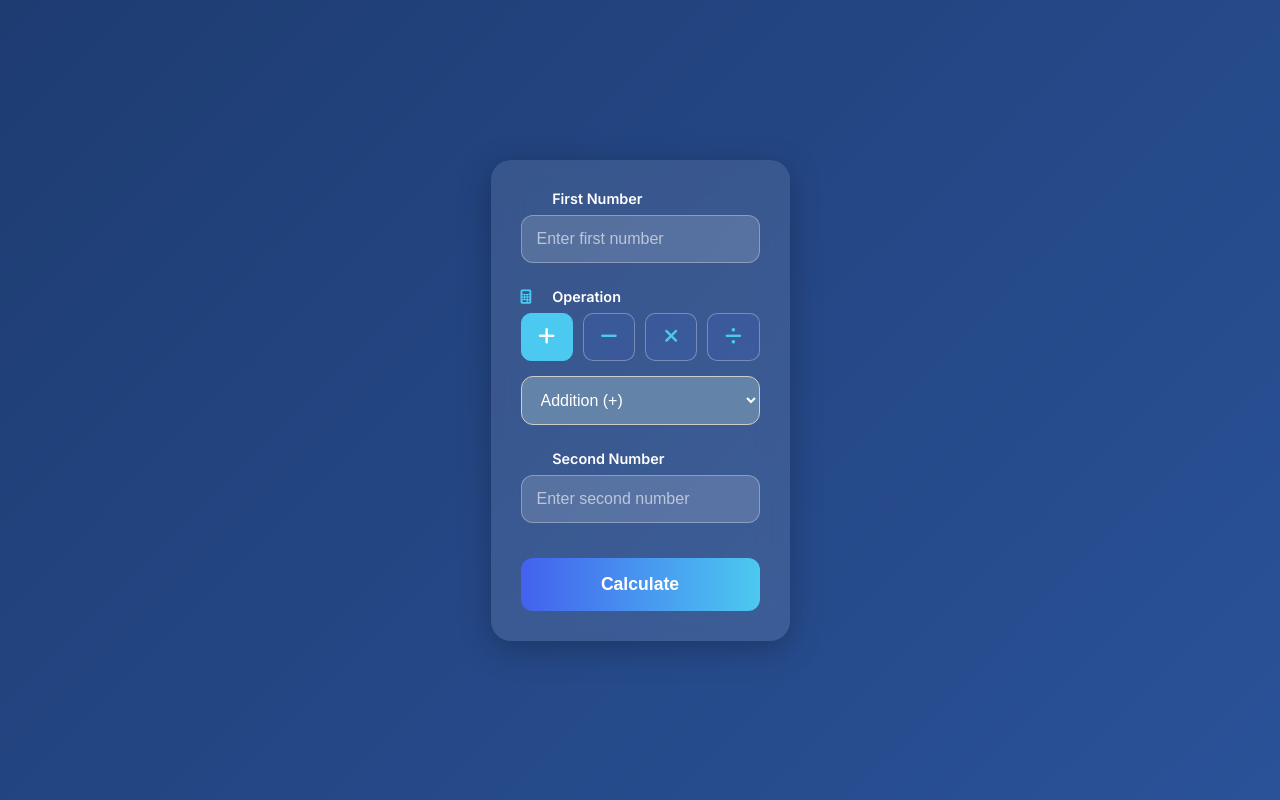
Test: Calculator additional tests › displays API error when calculate rejects
Type "10" into the number field with test id "first-number-input" at (640, 238), box [520,214,760,262]
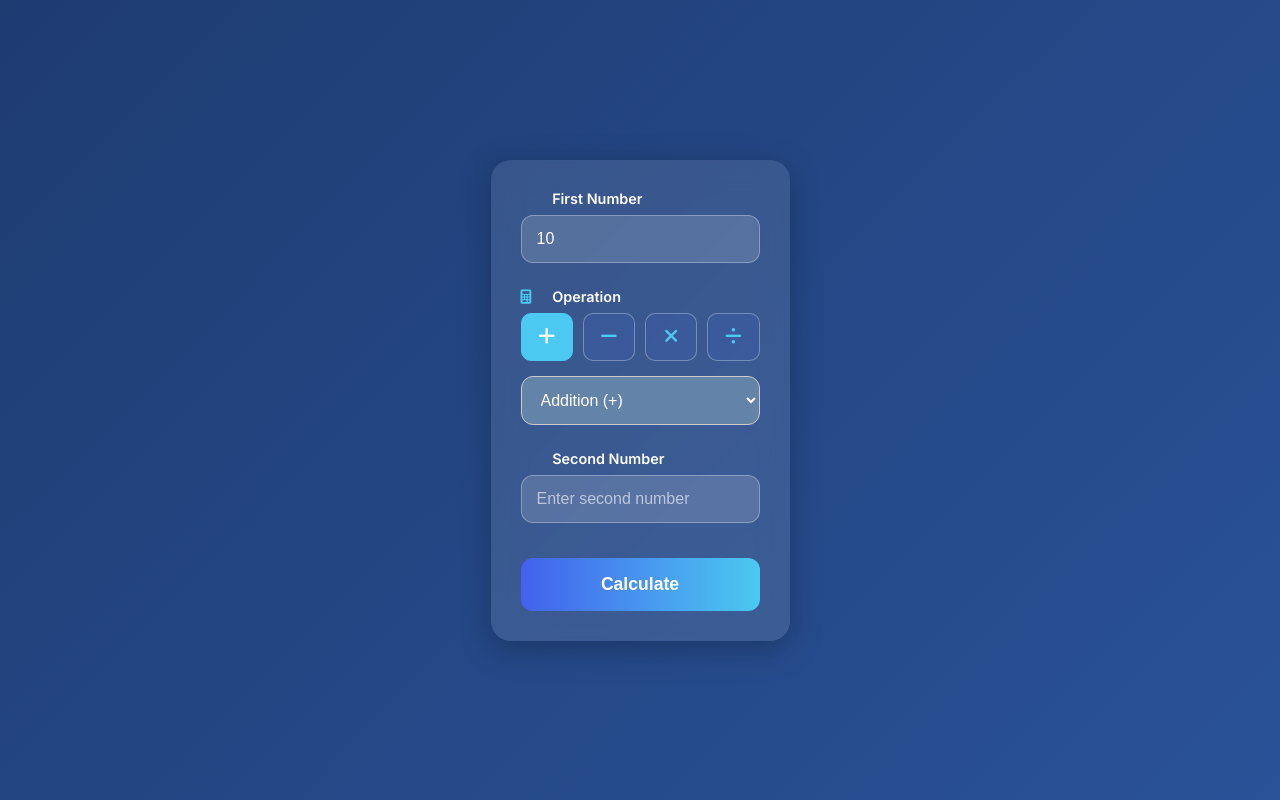
Type "0" into the number field with test id "second-number-input" at (640, 498), box [520,474,760,522]
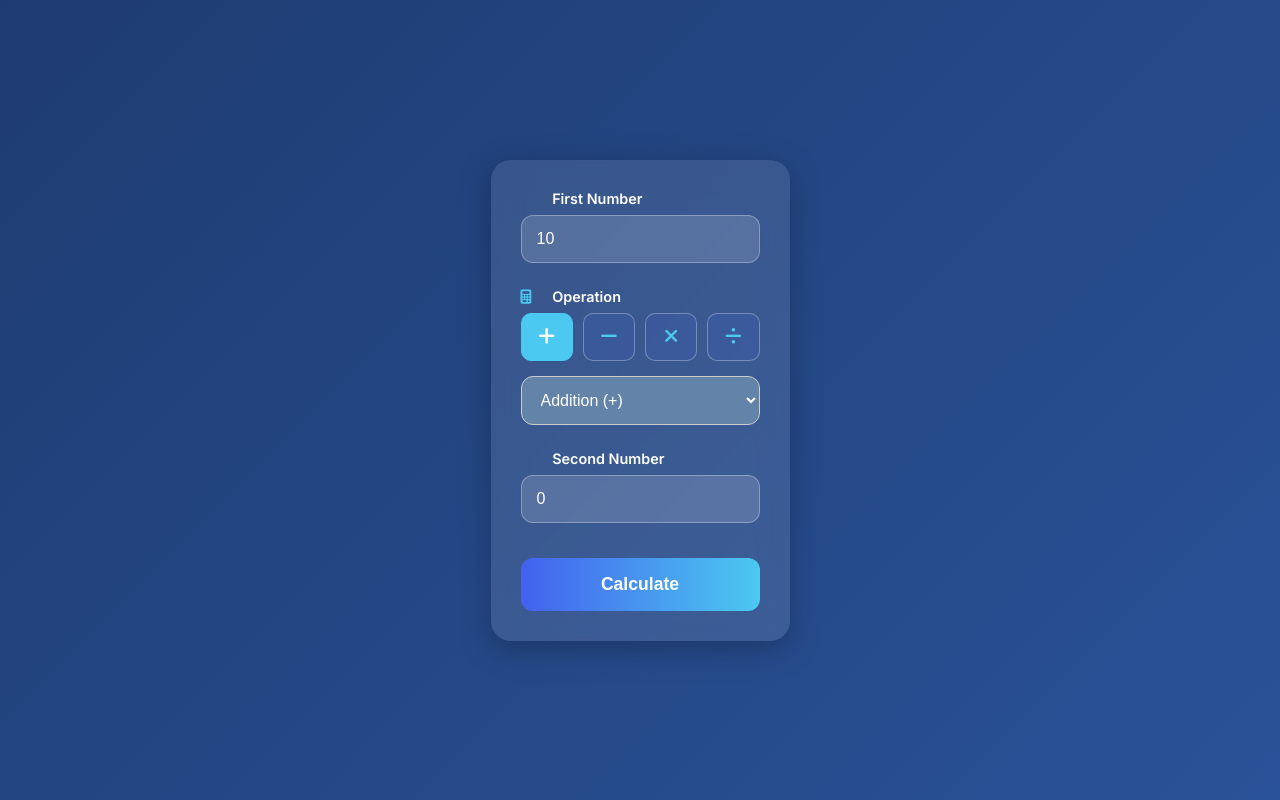
Click the button with test id "divide-button" at (733, 336), box [707,312,760,360]
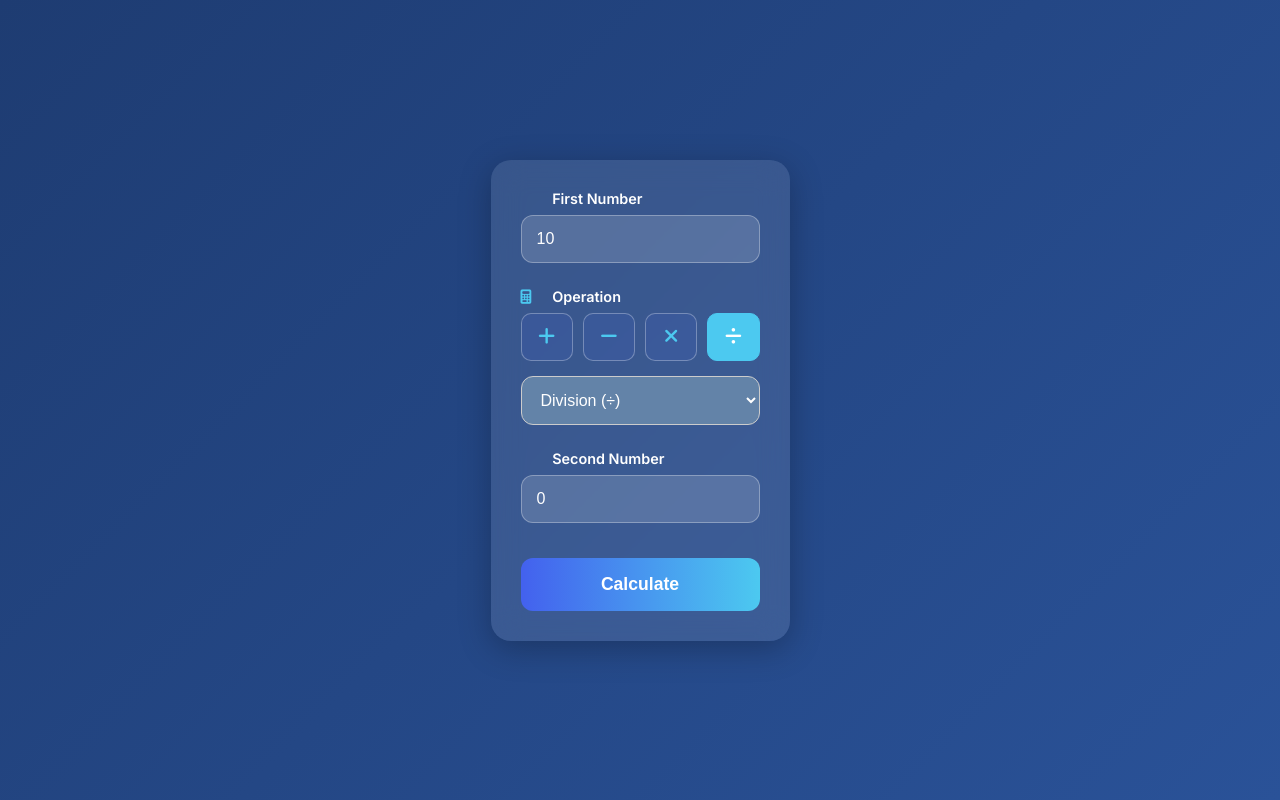
Click the button with test id "calculate-button" at (640, 584), box [520,558,760,610]
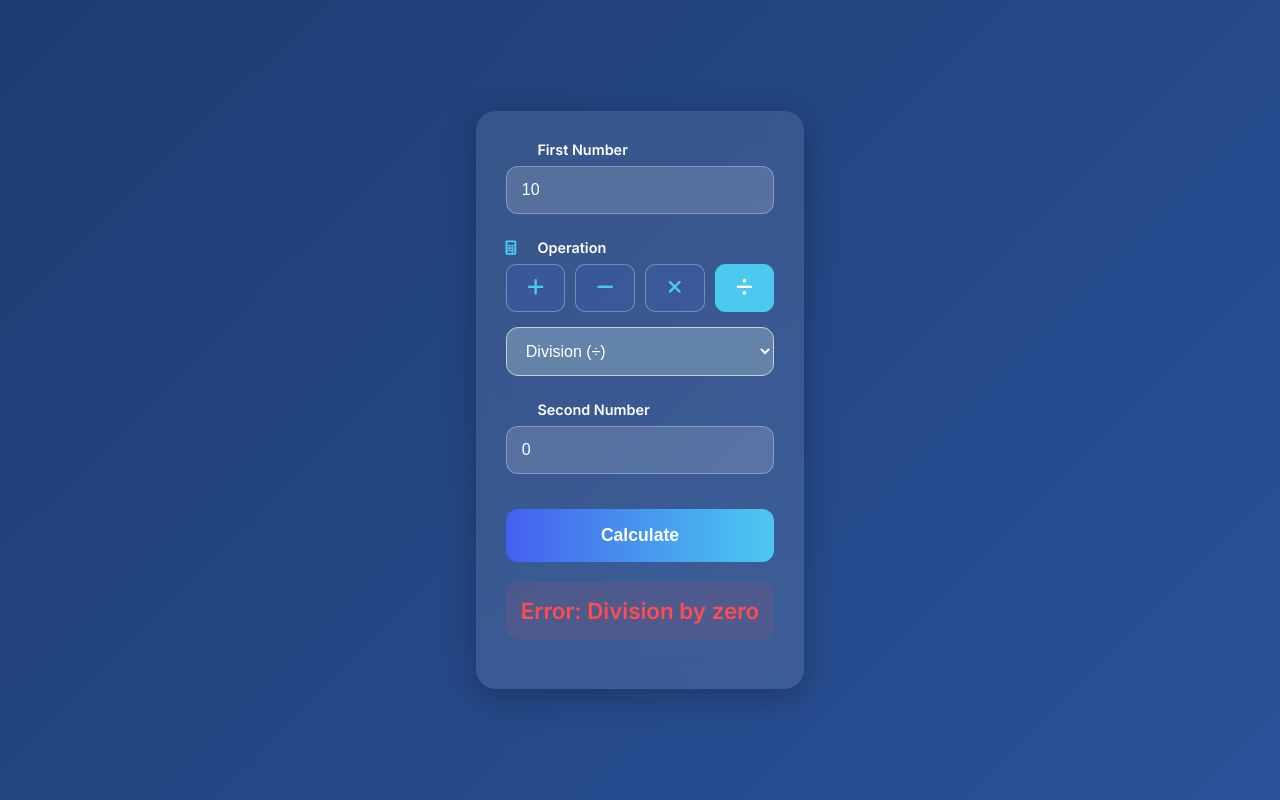
Expected: the text with test id "result-error" reads "Error: Division by zero", [506,582,774,639]
